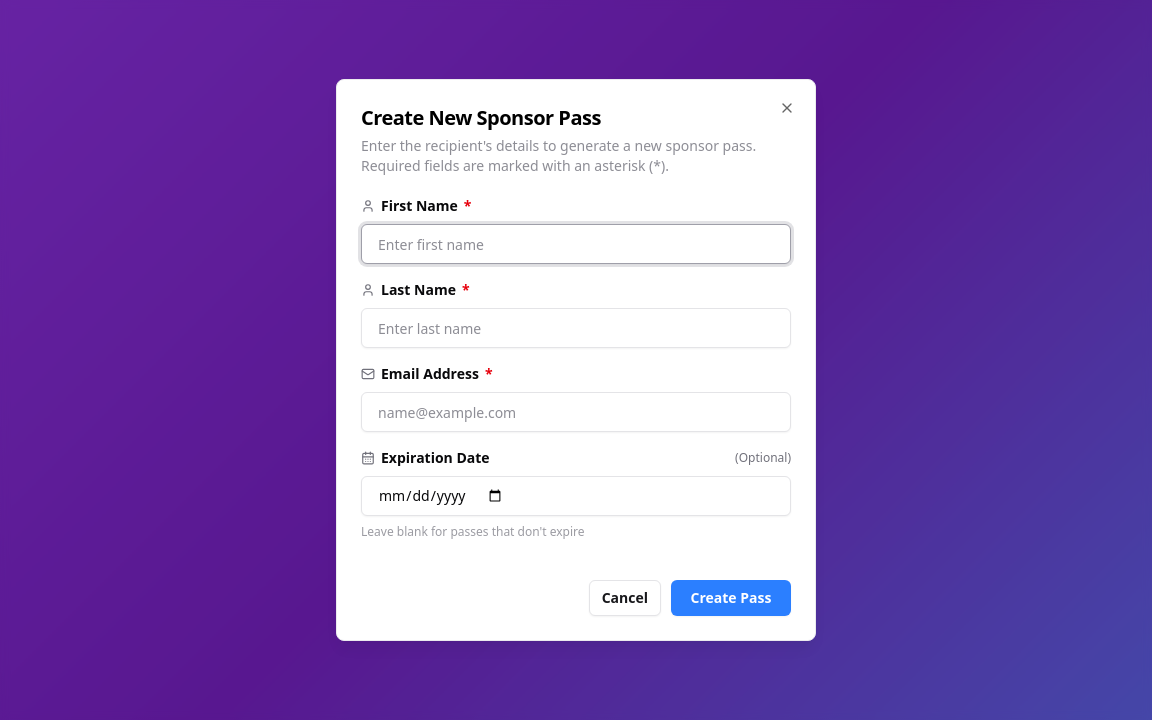
Test: CreatePassModal › disables submit button while submitting
Type "John" into the field labelled "First Name *" at (576, 244), box [361,224,791,264]
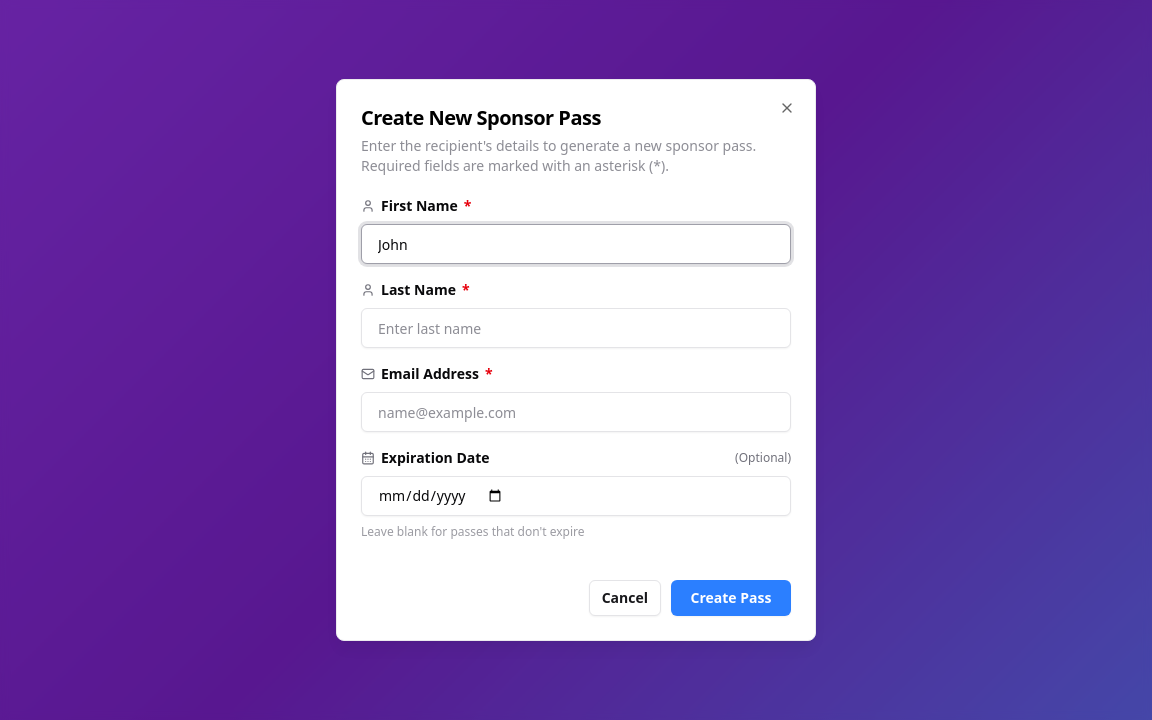
Type "Doe" into the field labelled "Last Name *" at (576, 328), box [361,308,791,348]
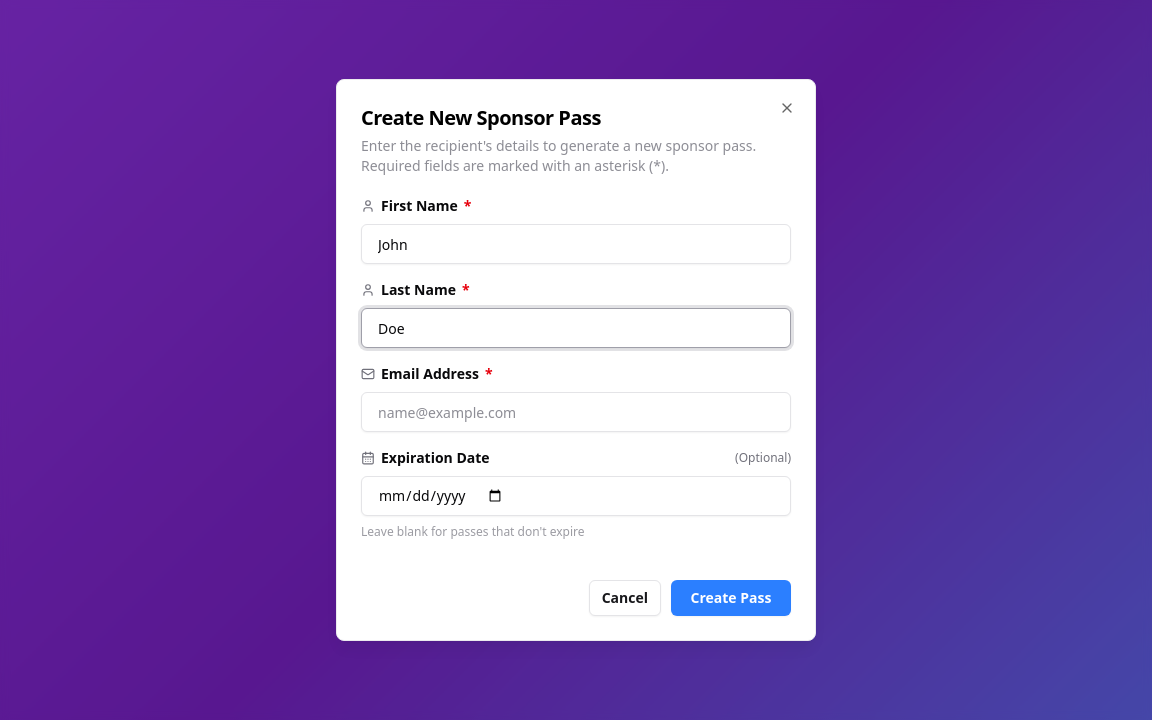
Type "john@example.com" into the field labelled "Email Address *" at (576, 412), box [361,392,791,432]
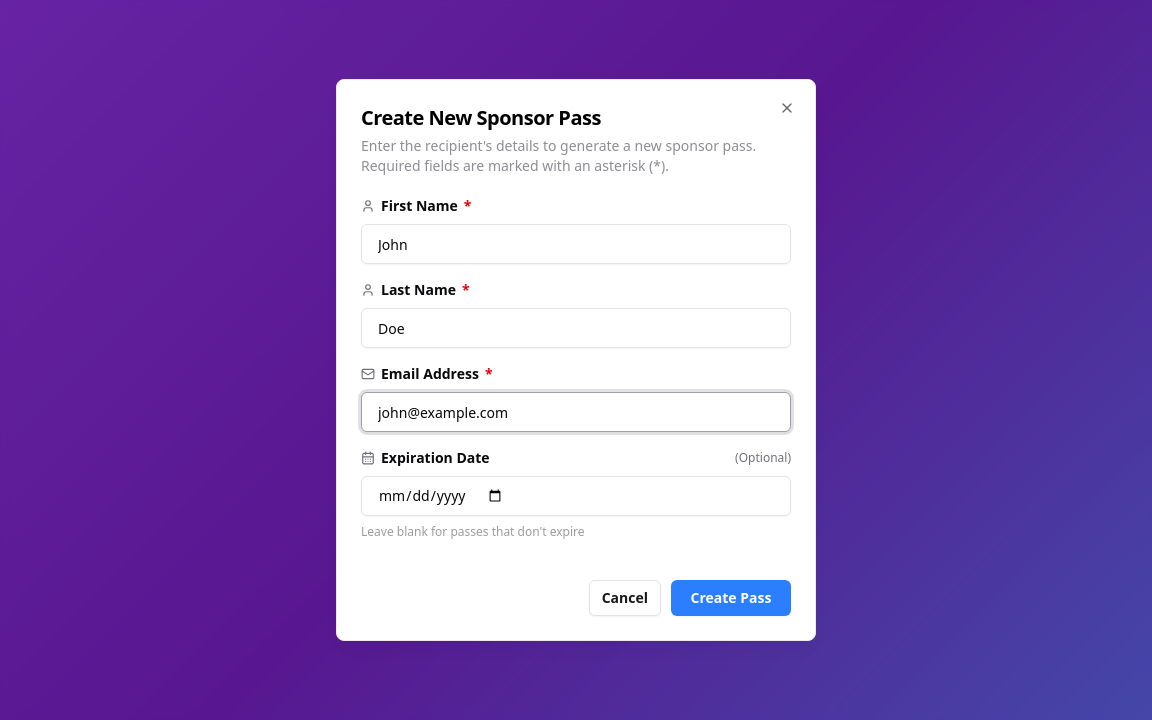
Click the button "Create Pass" at (731, 598), box [671,580,791,616]
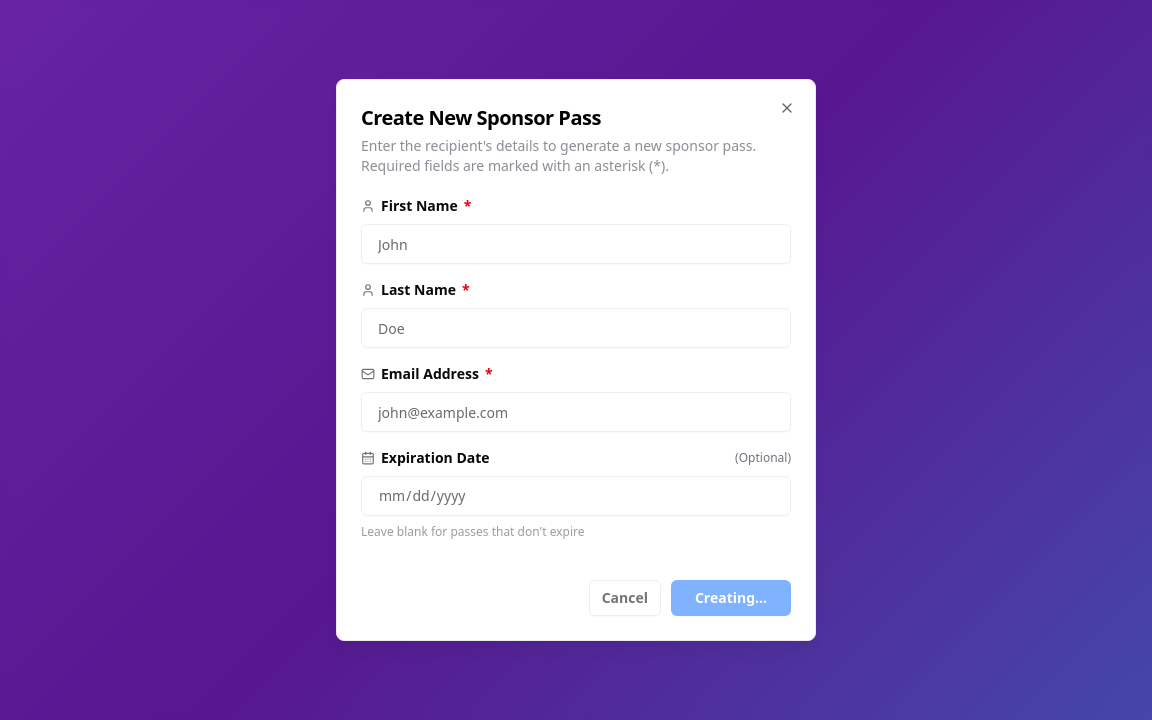
Expected: the button "Create Pass" is disabled, [671,580,791,616]
